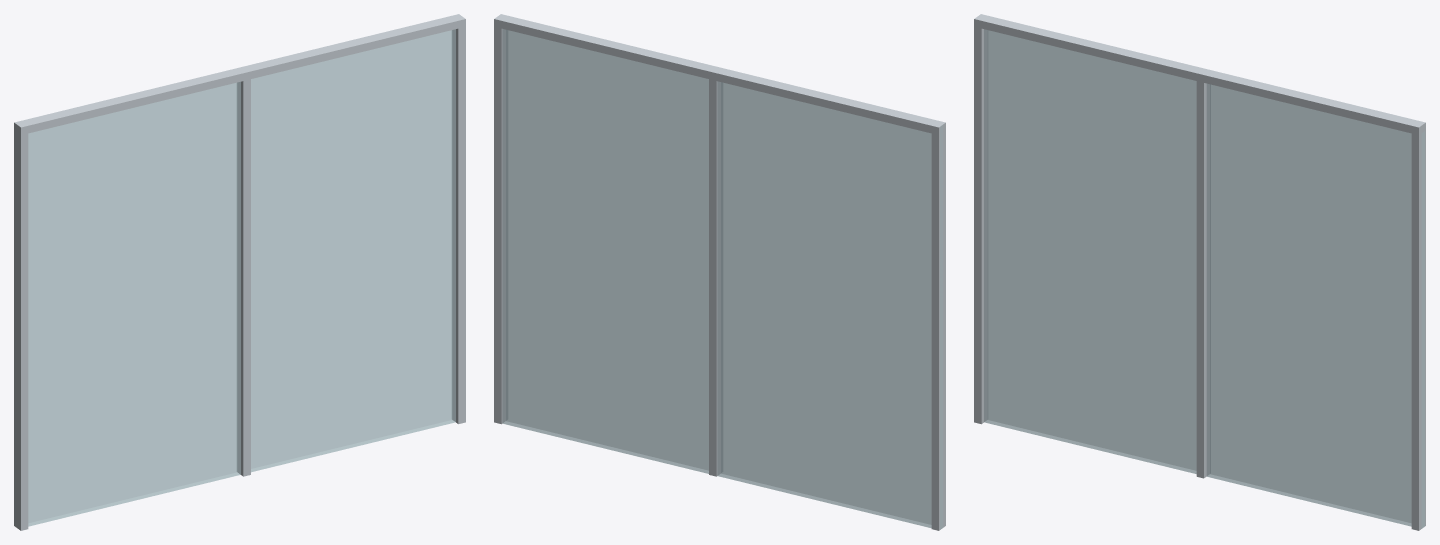
Rendered from glass_shopfront.glb.
The picture shows the model from 3 angles, left to right: view 1: azimuth 30°, elevation 25°; view 2: azimuth 150°, elevation 25°; view 3: azimuth 330°, elevation 25°; orthographic projection.
Parts seen in each view (by area): view 1: Glass, Top, Mul, Mul.001, Mul.002; view 2: Glass, Top, Mul, Mul.001, Mul.002; view 3: Glass, Top, Mul.002, Mul.001, Mul.
Part boxes in pixels (bbox=[...]): Glass: bbox=[15, 29, 455, 526]; Top: bbox=[14, 14, 465, 134]; Mul: bbox=[14, 123, 28, 530]; Mul.001: bbox=[237, 71, 250, 476]; Mul.002: bbox=[452, 27, 465, 424]; Glass: bbox=[502, 29, 943, 529]; Top: bbox=[494, 14, 945, 134]; Mul: bbox=[931, 122, 945, 530]; Mul.001: bbox=[709, 71, 722, 476]; Mul.002: bbox=[494, 19, 507, 424]; Glass: bbox=[984, 29, 1424, 528]; Top: bbox=[974, 14, 1425, 134]; Mul.002: bbox=[1411, 126, 1425, 530]; Mul.001: bbox=[1196, 73, 1210, 478]; Mul: bbox=[974, 19, 987, 424].
Size of the model in its own units: 3 by 2.6 by 0.08.
